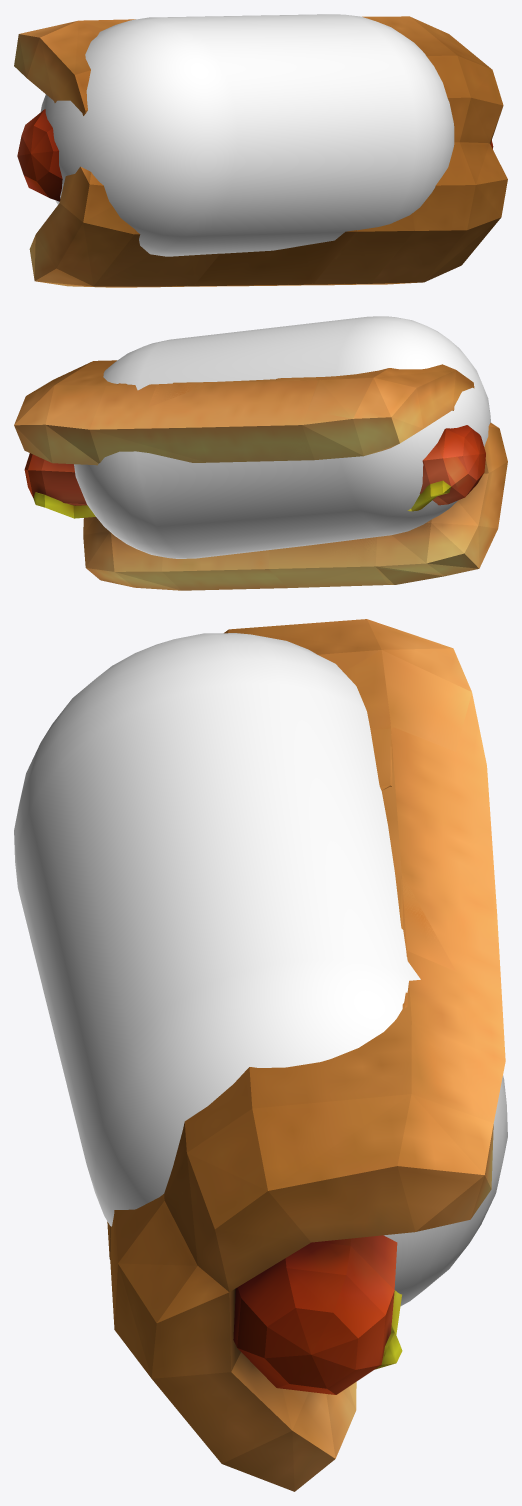
The model's file is HotDogAnchor.fbx.
3 views of the same model, one above another, from view 1: azimuth 30°, elevation 25°; view 2: azimuth 150°, elevation 25°; view 3: azimuth 270°, elevation 25° (orthographic). The views are drawn at different scales.
Visible parts, largest first — view 1: HotDogInteractionPoint, Hotdog_Bite00, Hotdog_Bite03, Hotdog_Bite02, Hotdog_Bite01; view 2: Hotdog_Bite00, HotDogInteractionPoint, Hotdog_Bite02, Hotdog_Bite03, Hotdog_Bite01; view 3: HotDogInteractionPoint, Hotdog_Bite00, Hotdog_Bite03, Hotdog_Bite01, Hotdog_Bite02.
Boxes of the visible parts, x1,y1,x2,y2 form: HotDogInteractionPoint: (40, 14, 454, 256); Hotdog_Bite00: (14, 16, 507, 286); Hotdog_Bite03: (17, 19, 219, 287); Hotdog_Bite02: (133, 19, 356, 286); Hotdog_Bite01: (265, 213, 414, 285); Hotdog_Bite00: (14, 360, 507, 590); HotDogInteractionPoint: (74, 316, 491, 558); Hotdog_Bite02: (173, 377, 464, 587); Hotdog_Bite03: (275, 368, 485, 584); Hotdog_Bite01: (117, 383, 269, 568); HotDogInteractionPoint: (14, 633, 507, 1306); Hotdog_Bite00: (110, 619, 505, 1491); Hotdog_Bite03: (318, 650, 471, 790); Hotdog_Bite01: (107, 873, 455, 1259); Hotdog_Bite02: (370, 724, 482, 929).
Size of the model in its own units: 18.97 by 12.78 by 9.69.
